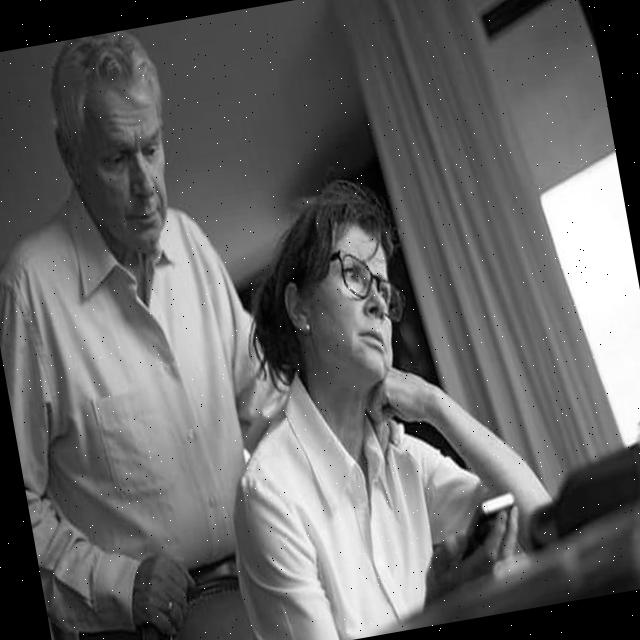Sadness: (306, 221, 408, 385)
